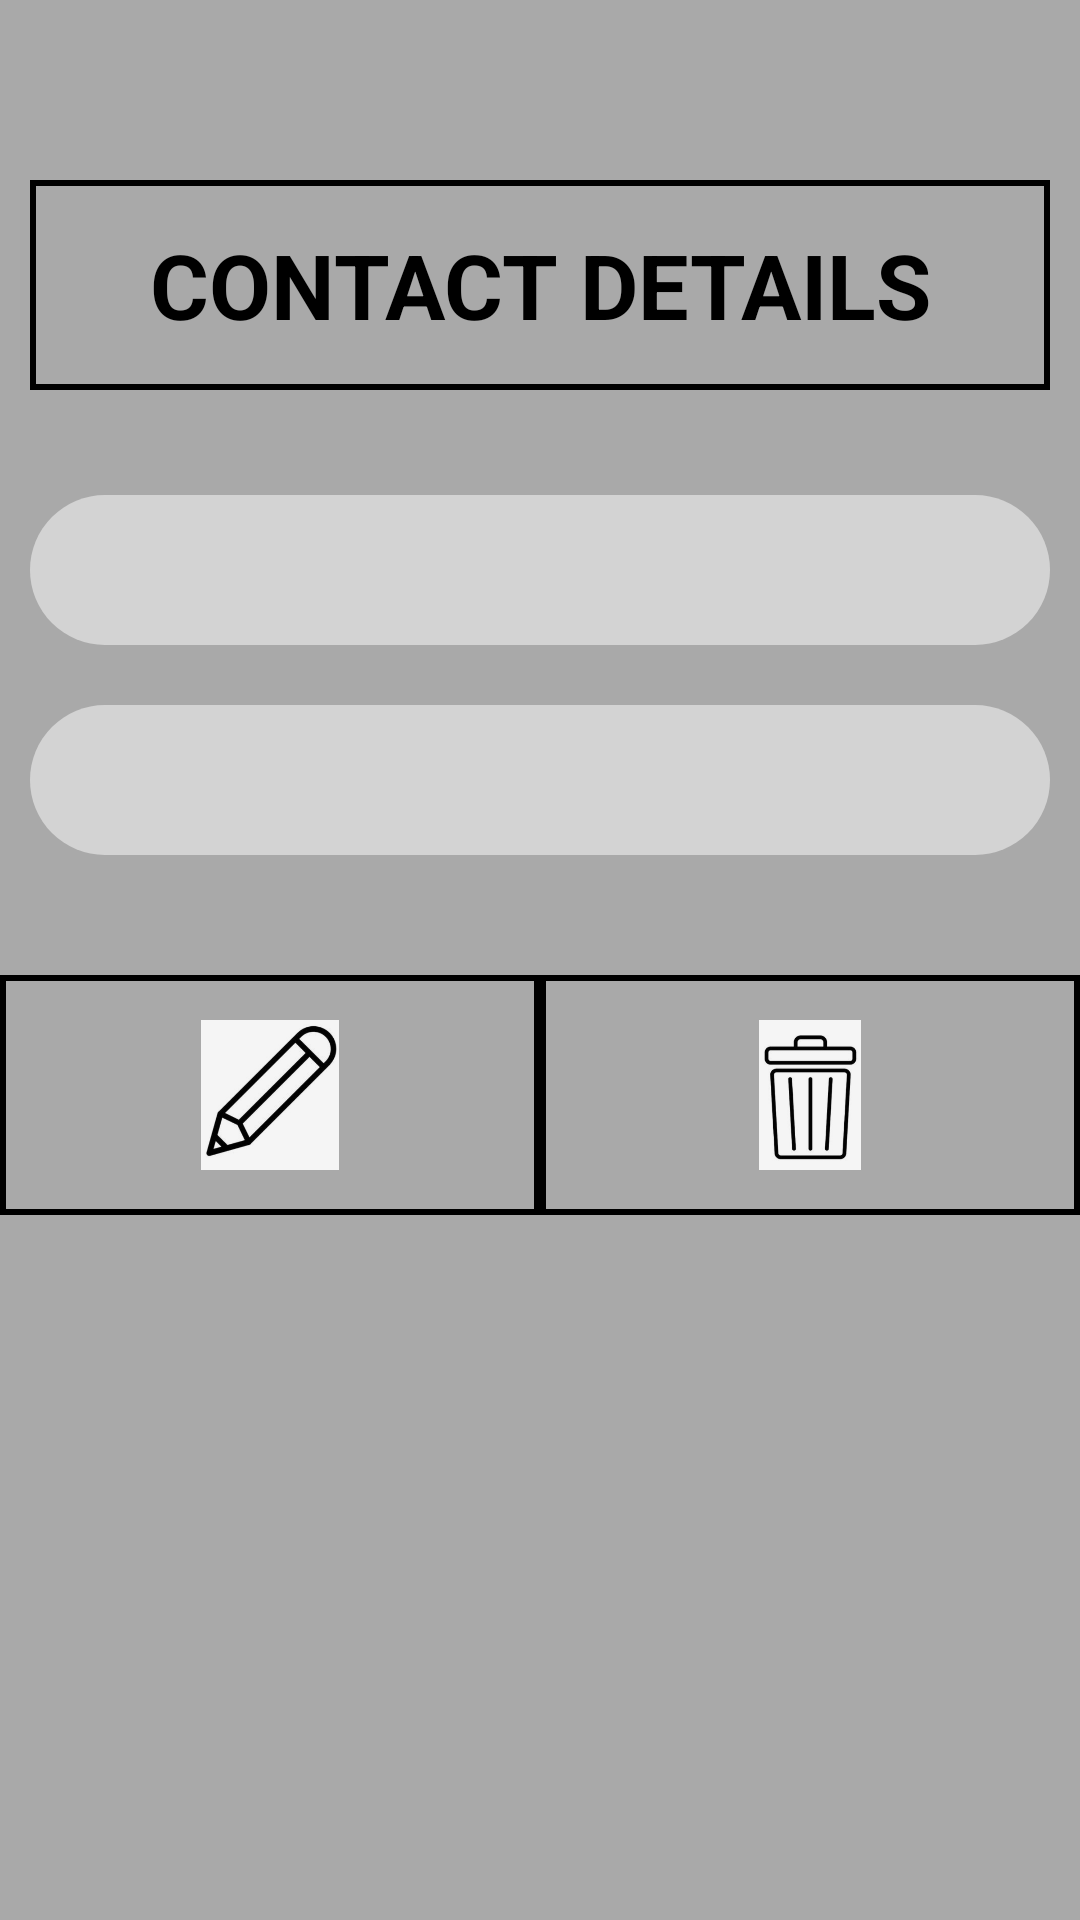

Named icons in this screenshot (1080 × 1920) and their bounding boxes, (x1, y1, x2, y2):
delete: (759, 1020, 861, 1170)
edit: (201, 1020, 339, 1170)
